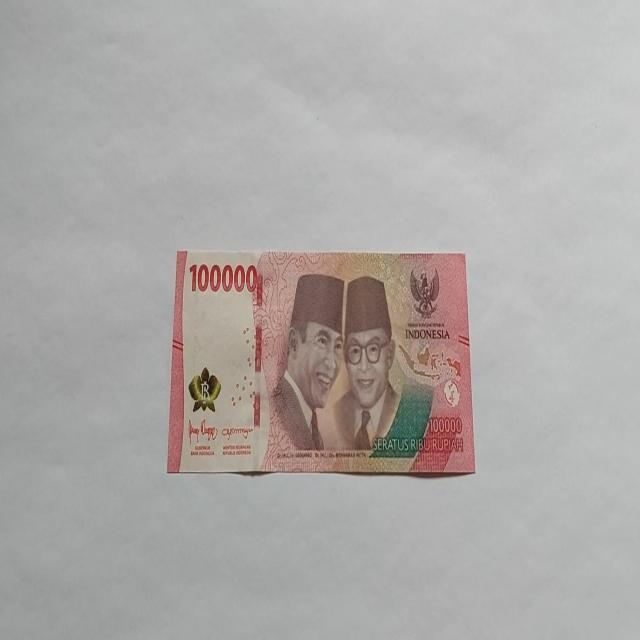seratus ribu rupiah: (167, 248, 476, 476), (259, 272, 345, 470)
